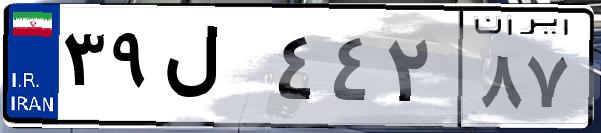2: (385, 28, 445, 110)
3: (57, 26, 110, 100)
4: (270, 28, 330, 110), (330, 28, 385, 110)
7: (525, 38, 570, 115)
8: (475, 38, 525, 113)
9: (110, 28, 158, 98)
ل: (158, 20, 270, 120)
